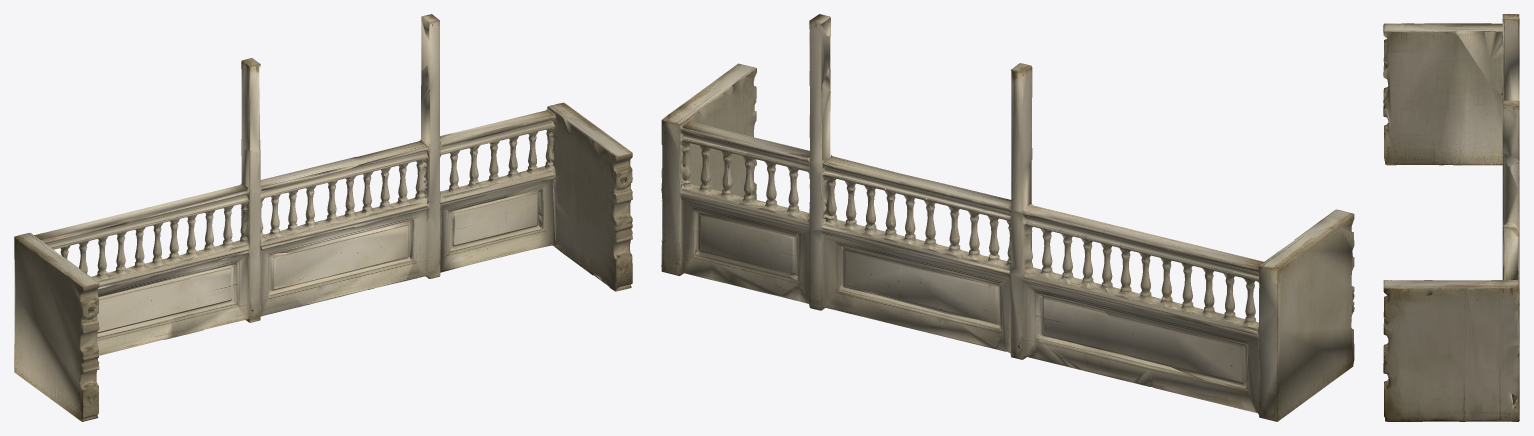
File: meetinghouse-gallery-impression.glb
The picture shows the model from 3 angles, left to right: view 1: azimuth 30°, elevation 25°; view 2: azimuth 150°, elevation 25°; view 3: azimuth 270°, elevation 25°; orthographic projection. The views are drawn at different scales.
Parts seen in each view (by area): view 1: Mesh_0; view 2: Mesh_0; view 3: Mesh_0.
Boxes of the visible parts, x1=… form: Mesh_0: x1=14, y1=14, x2=632, y2=421; Mesh_0: x1=661, y1=14, x2=1354, y2=421; Mesh_0: x1=1383, y1=14, x2=1519, y2=421.
Bounding box in the file's own units: 1.9 × 0.8473 × 0.4131.
1 material, 1 textured.
